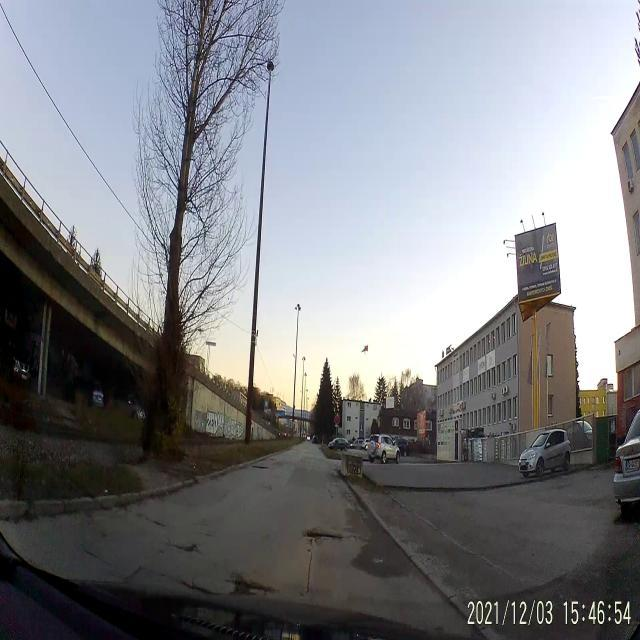Pothole: (220, 570, 274, 598), (302, 526, 344, 544), (182, 575, 216, 597), (167, 536, 200, 556)
